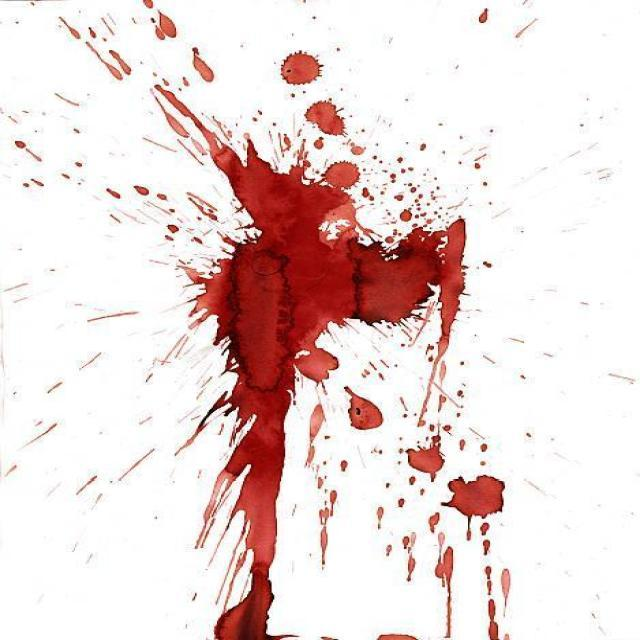flood: (158, 3, 508, 640)
